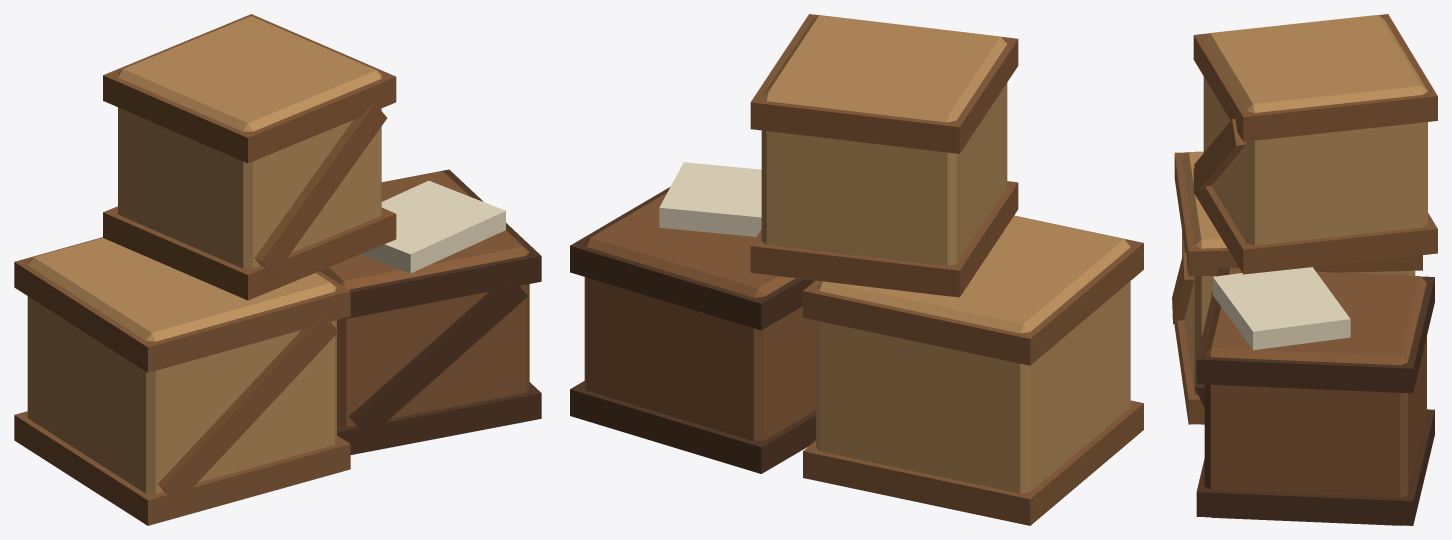
The model's file is Kisten.fbx.
The picture shows the model from 3 angles, left to right: view 1: azimuth 30°, elevation 25°; view 2: azimuth 150°, elevation 25°; view 3: azimuth 270°, elevation 25°; orthographic projection. The views are drawn at different scales.
Parts seen in each view (by area): view 1: Kisten; view 2: Kisten; view 3: Kisten.
Boxes of the visible parts, x1,y1,x2,y2 form: Kisten: [14, 14, 541, 525]; Kisten: [570, 14, 1143, 525]; Kisten: [1172, 14, 1437, 525].
Size of the model in its own units: 1.44 by 1.15 by 0.7811.
